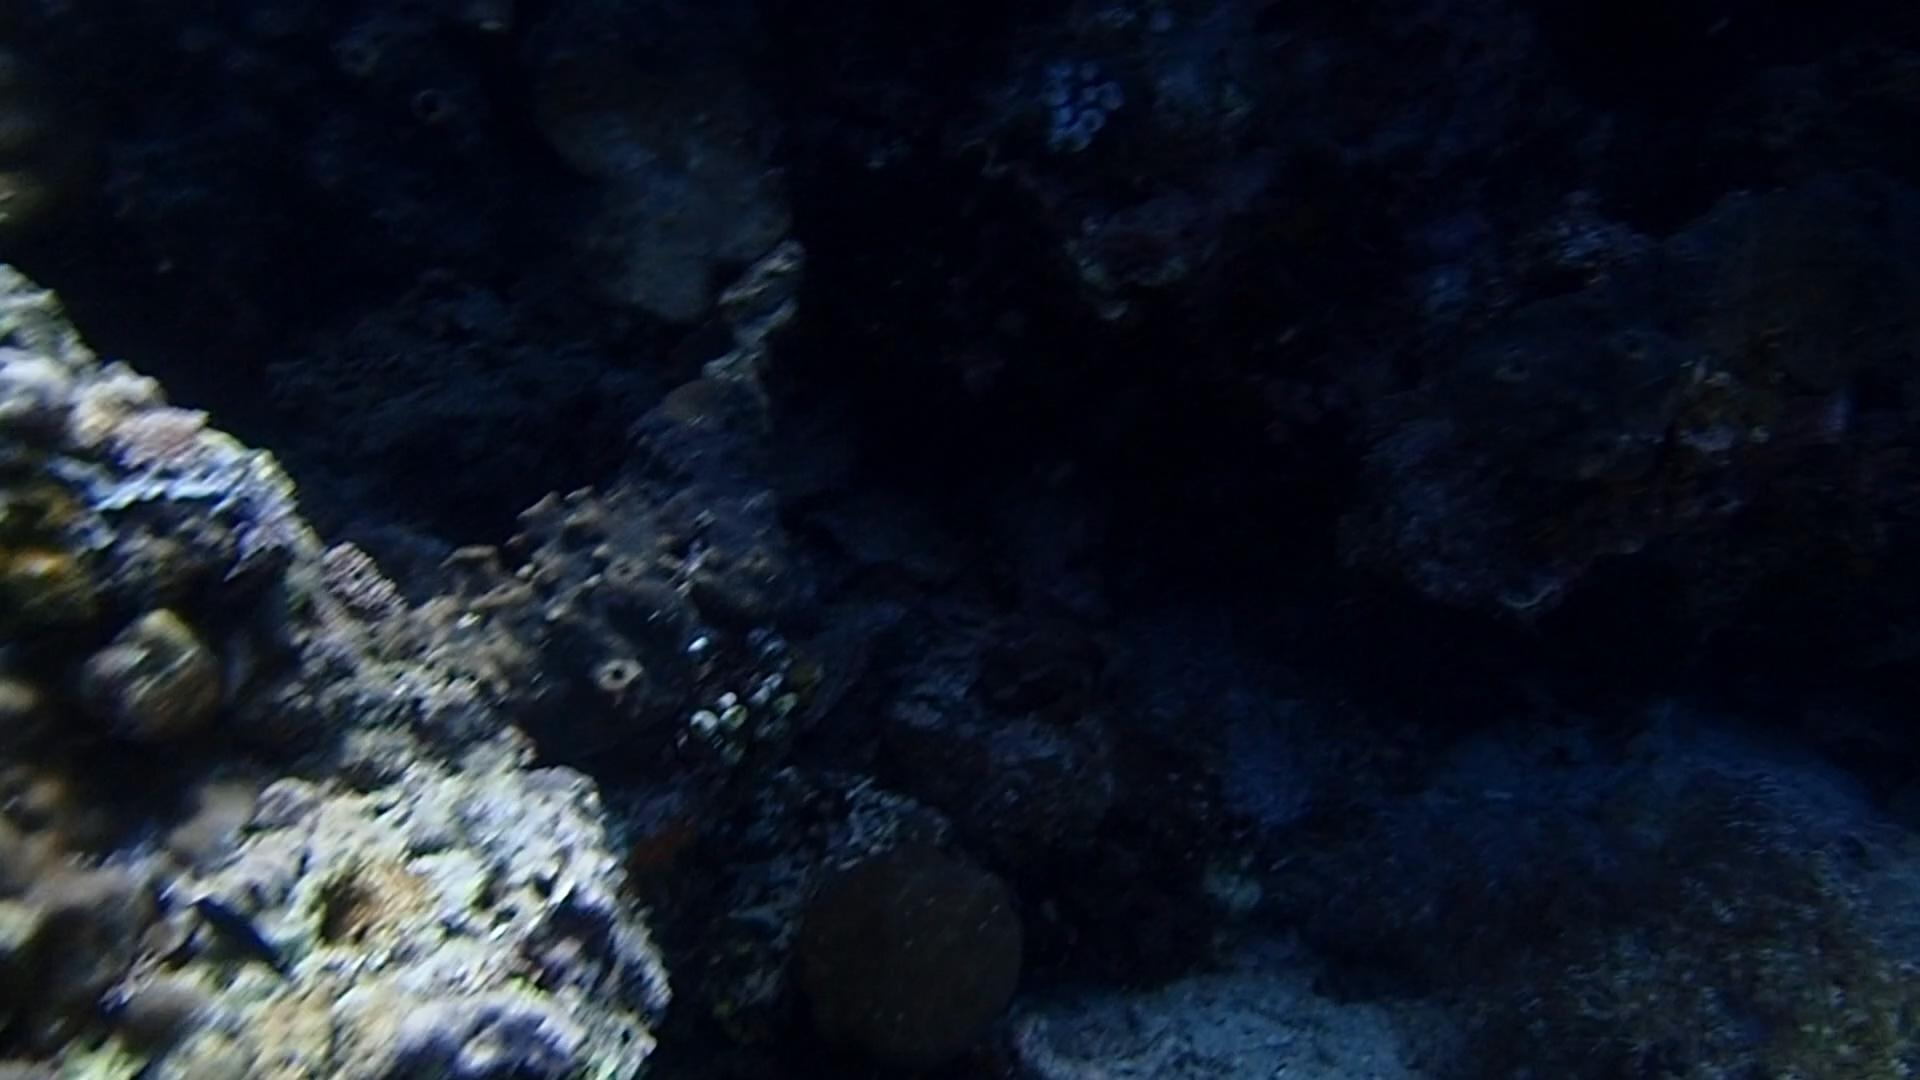Dark Fish: (182, 889, 287, 986)
